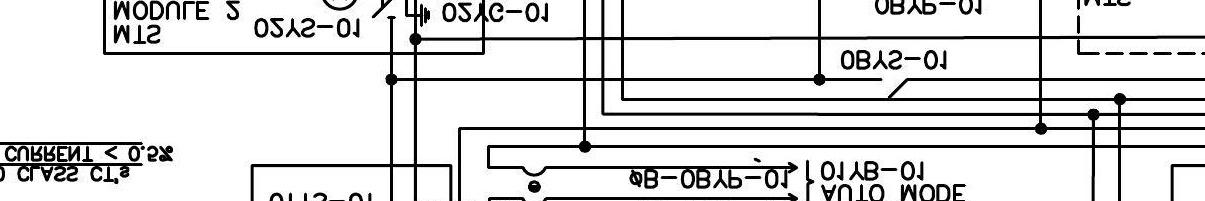115_ds: (878, 77, 908, 98)
